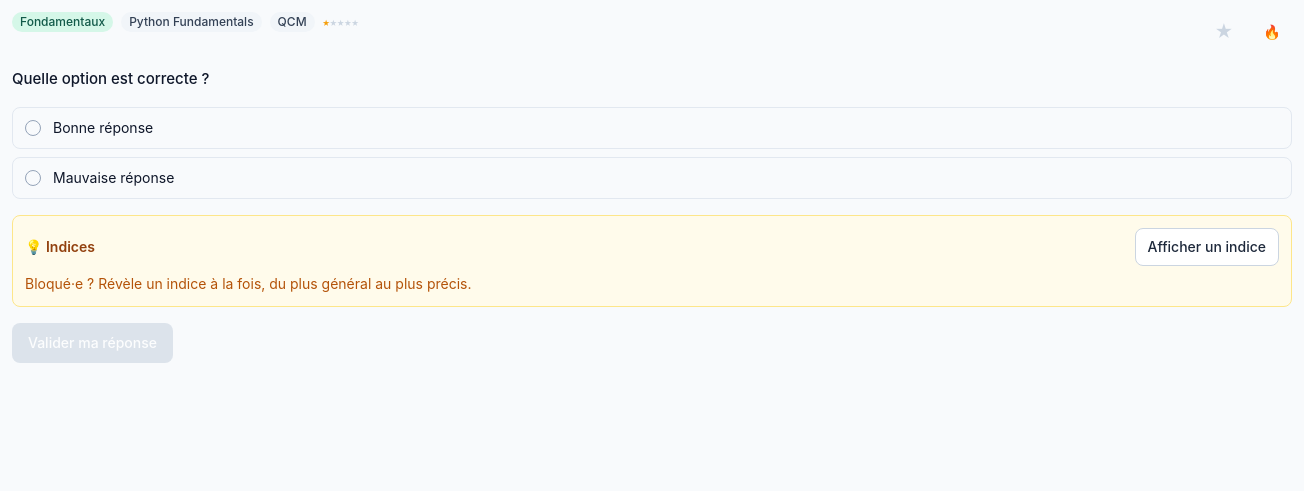
Test case: QuestionPlayer — multiple-choice flow › shows why-wrong feedback only for the selected incorrect option
The width and height of the screenshot is (1304, 491).
Click the button "Mauvaise réponse" at (114, 177), box top-left (12, 156), bottom-right (1292, 198)
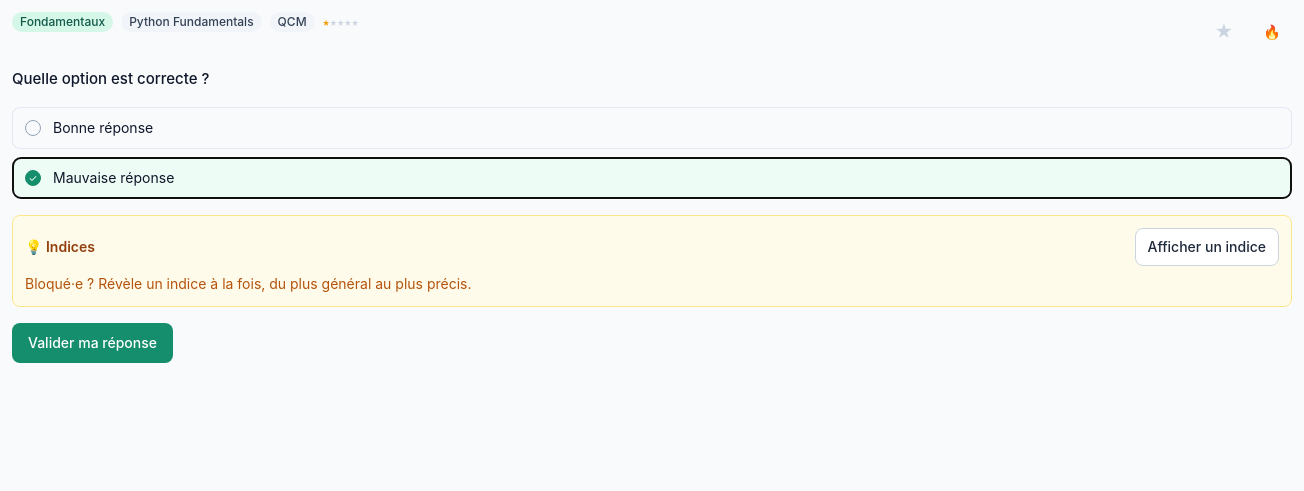
Click the button "Valider ma réponse" at (92, 342), box top-left (12, 322), bottom-right (173, 362)
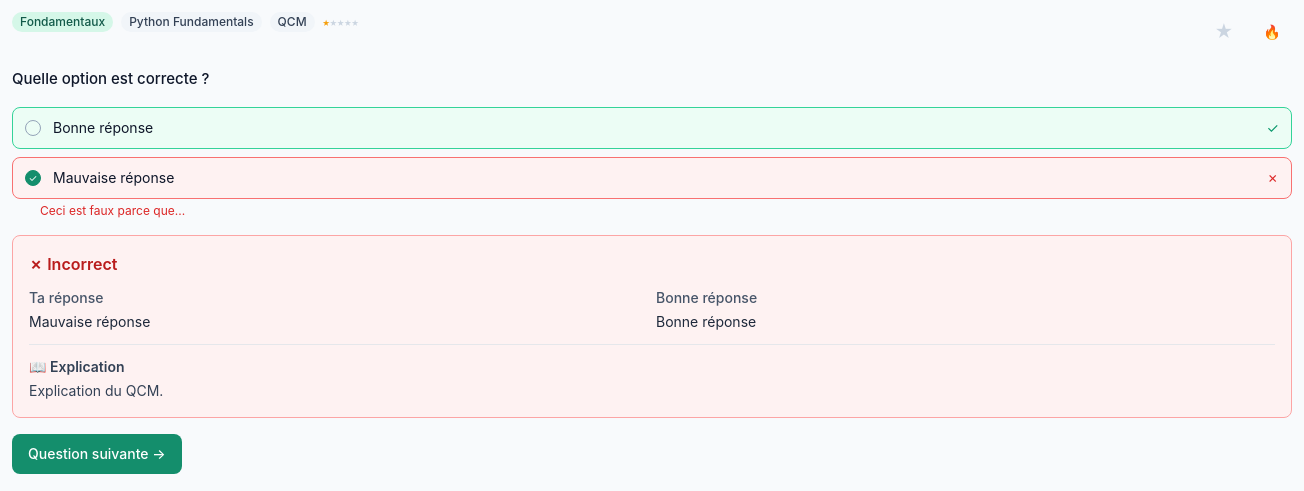
Check: the text "Ceci est faux parce que..." is shown, box top-left (40, 202), bottom-right (185, 218)
